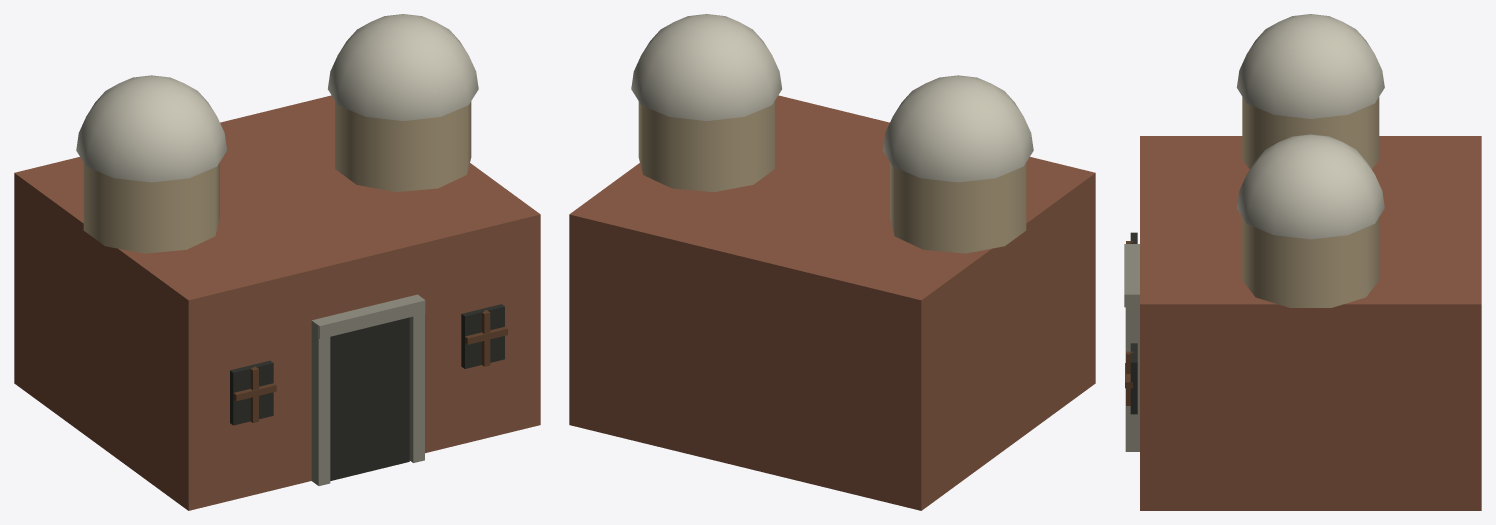
File: custom-home-southasia.glb
3 views of the same model, side by side, from view 1: azimuth 30°, elevation 25°; view 2: azimuth 150°, elevation 25°; view 3: azimuth 270°, elevation 25° (orthographic).
Parts seen in each view (by area): view 1: custom-home-southasia; view 2: custom-home-southasia; view 3: custom-home-southasia.
Boxes of the visible parts, <box> form: custom-home-southasia: <box>14,14,540,510</box>; custom-home-southasia: <box>569,14,1095,510</box>; custom-home-southasia: <box>1124,14,1481,510</box>.
Size of the model in its own units: 1 by 0.8816 by 0.8257.
